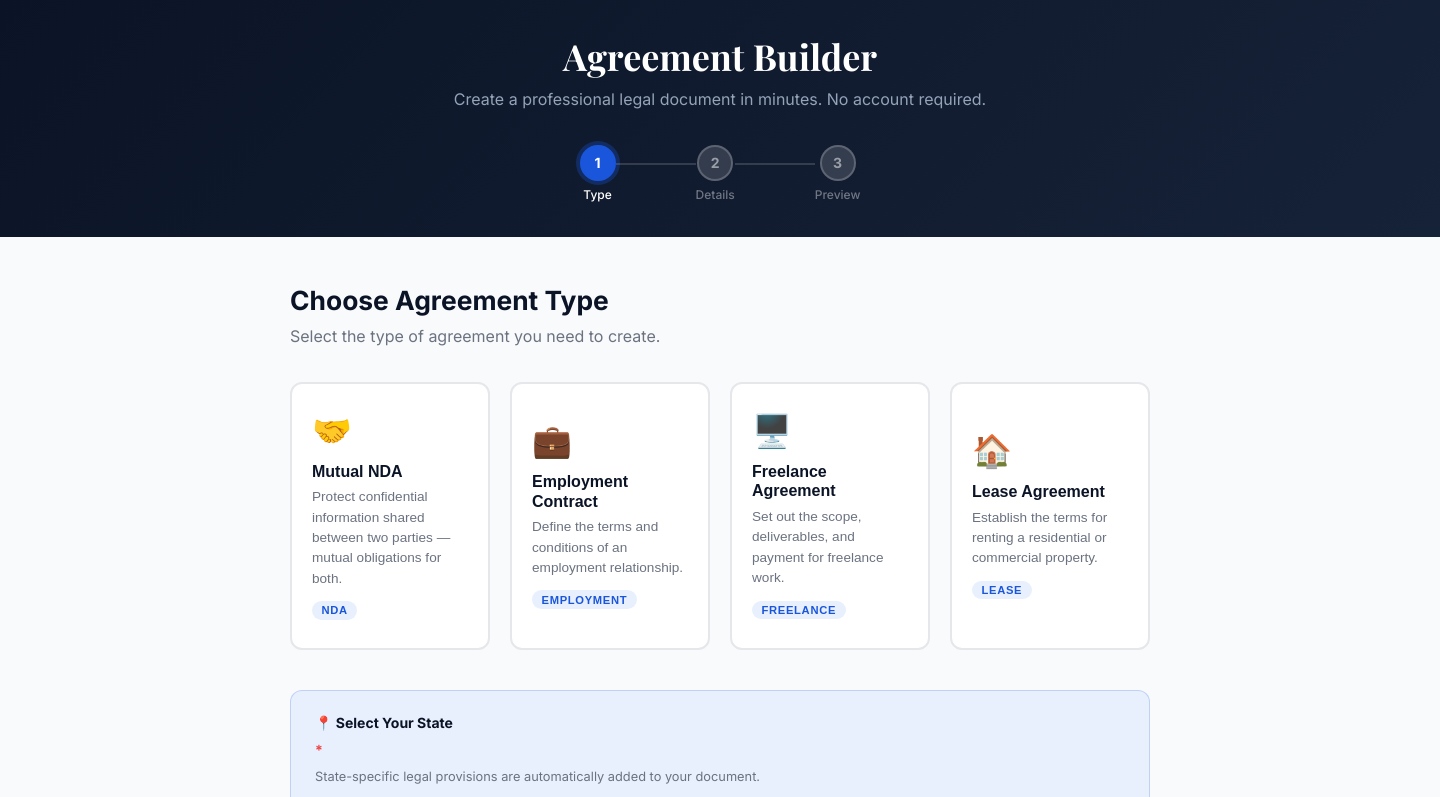
Test case: BuilderWizard — step navigation › goes back to Step 1 from Step 2 when Back is clicked
Click the heading "Mutual NDA" at (357, 471), box x1=312 y1=463 x2=403 y2=480
(page scrolled)
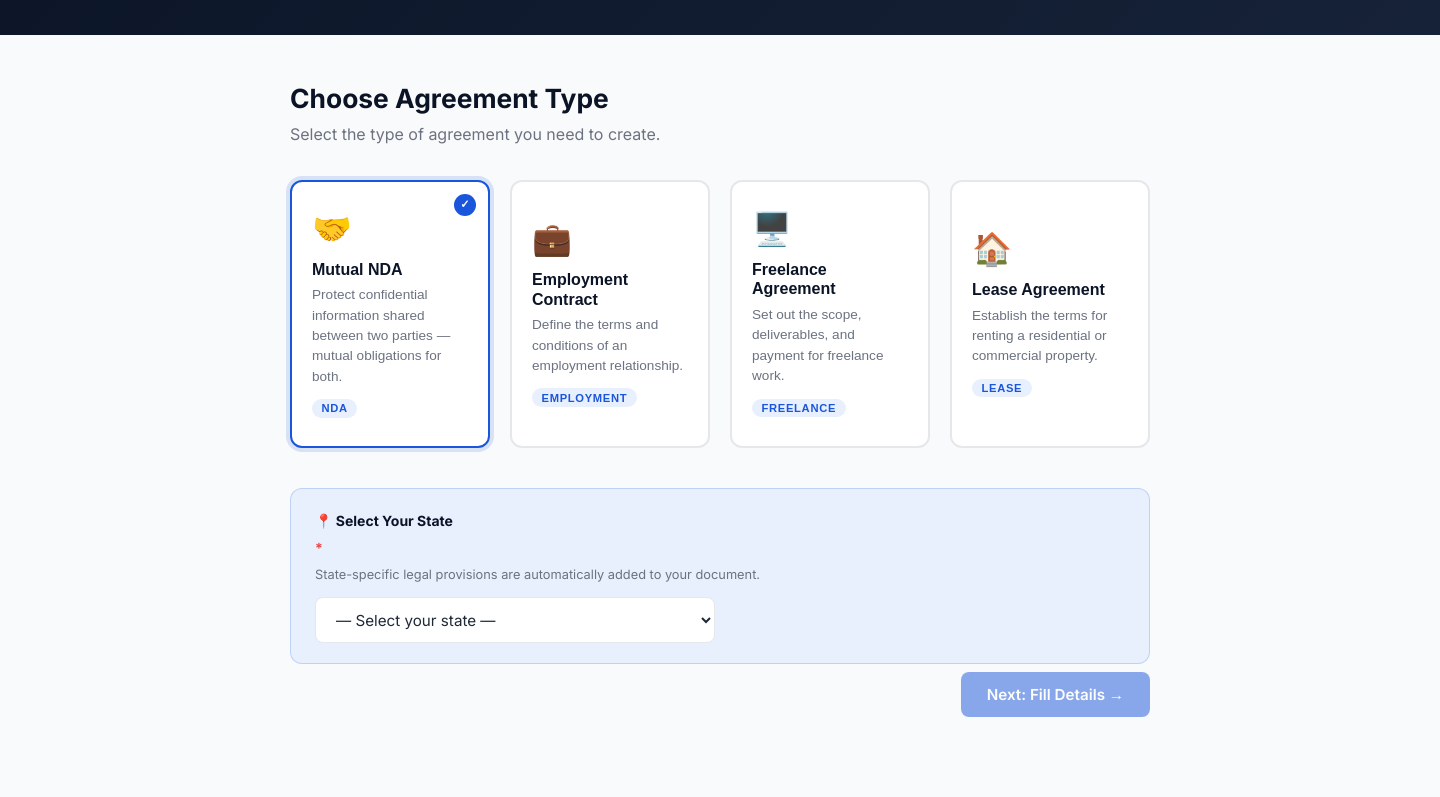
Select "California (CA)" in the dropdown at (515, 620), box x1=315 y1=597 x2=715 y2=643
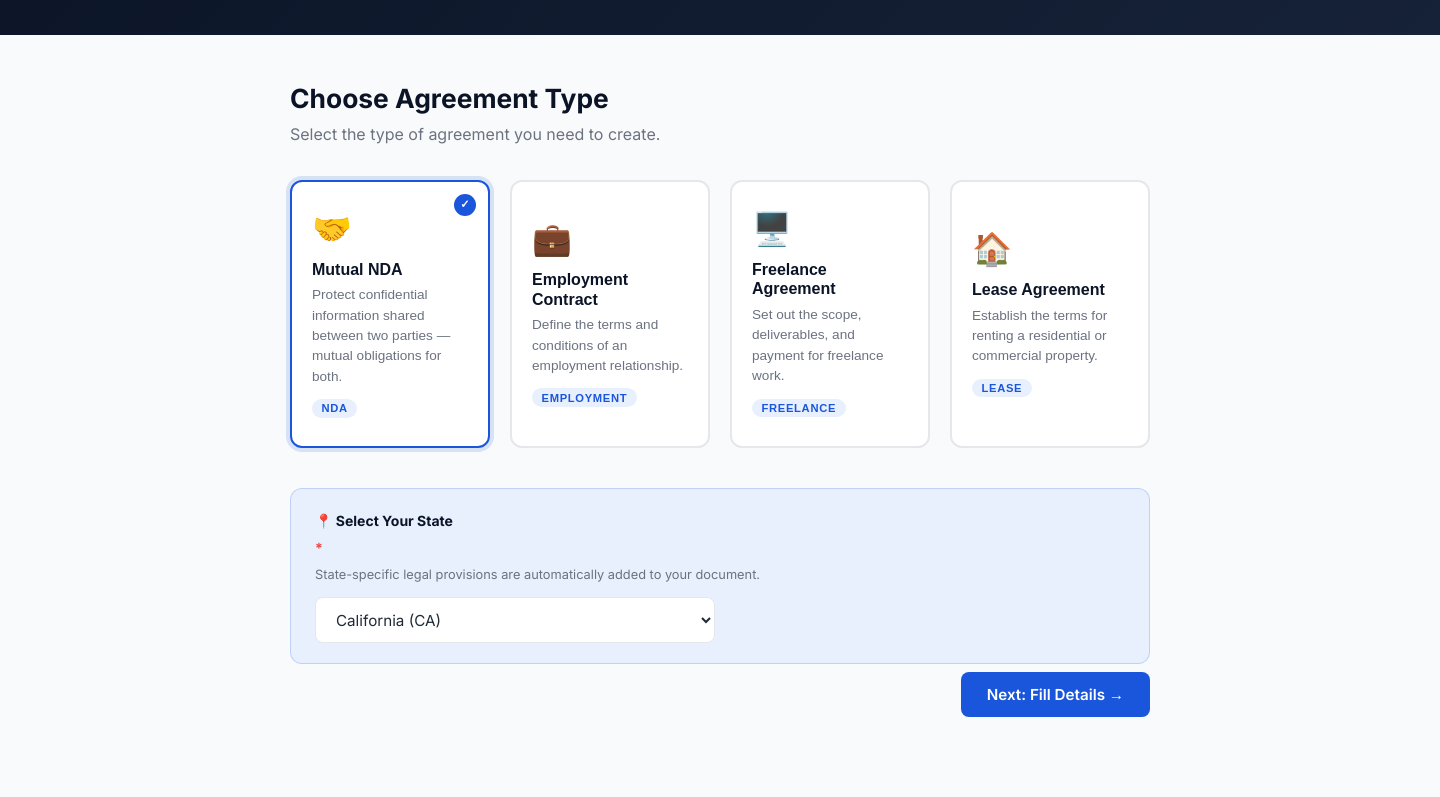
Click the button "Next: Fill Details →" at (1055, 694), box x1=961 y1=672 x2=1150 y2=717
(page scrolled)
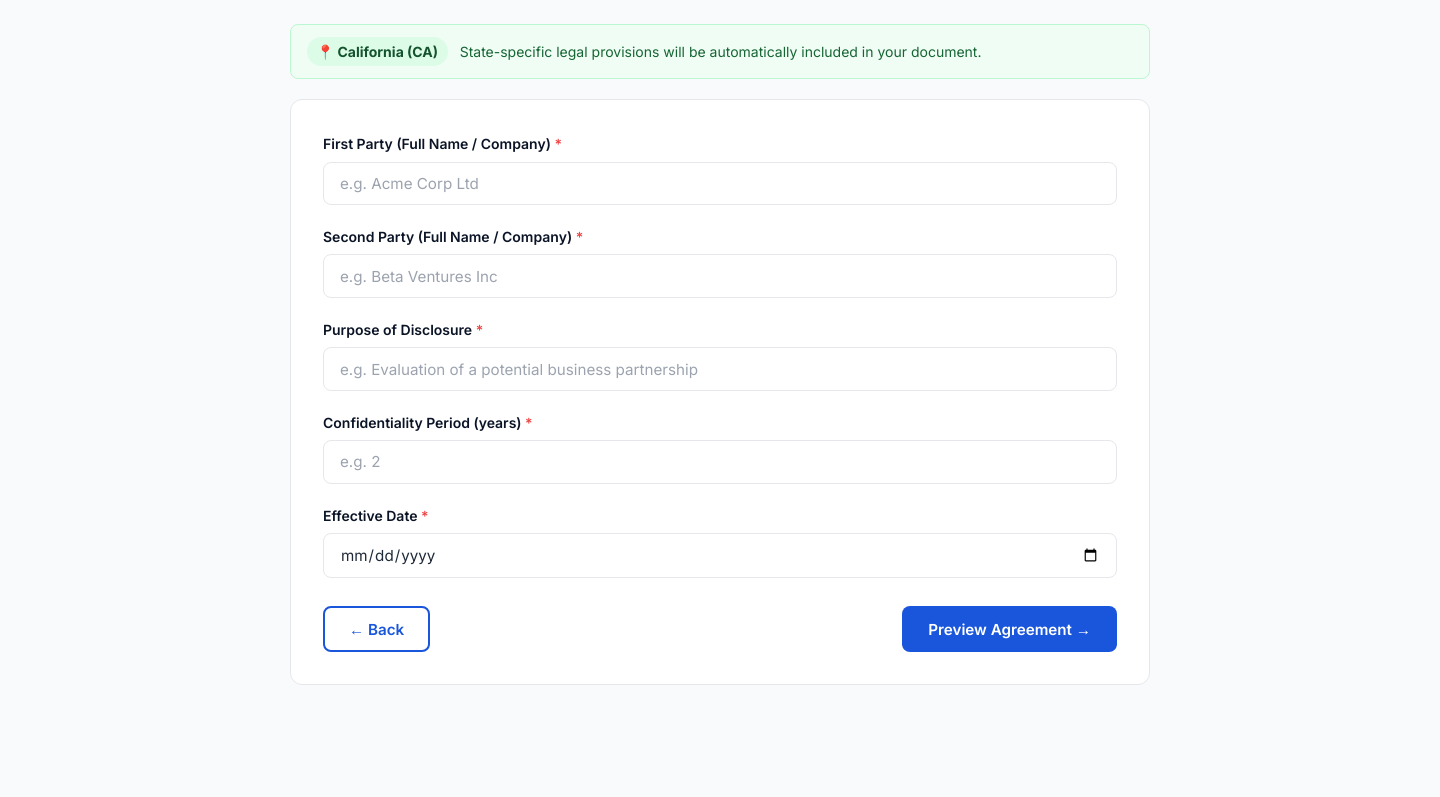
Result: the button "← Back" is shown
Click the button "← Back" at (377, 629), box x1=323 y1=606 x2=430 y2=652
(page scrolled)
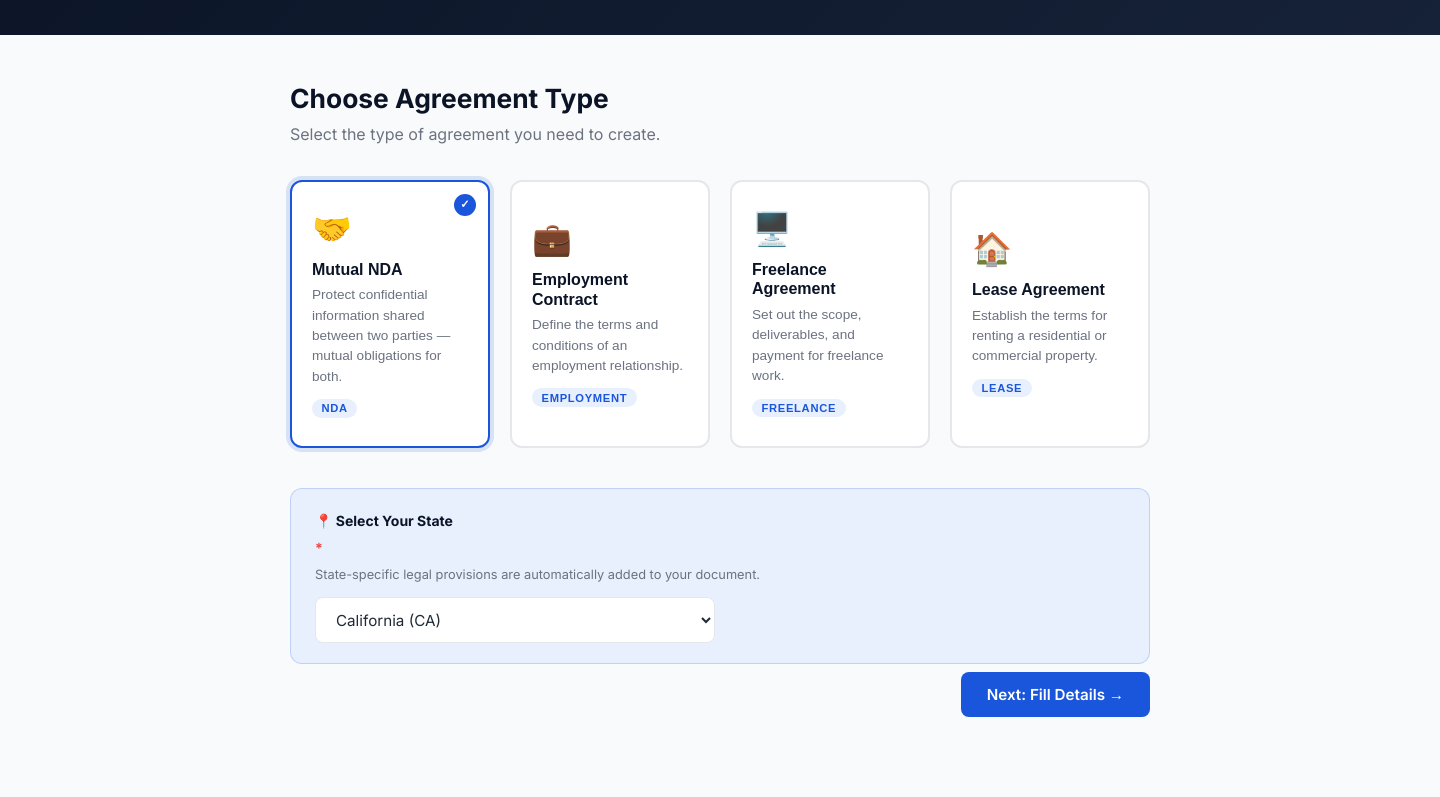
Result: the heading "Choose Agreement Type" is shown at x1=290 y1=82 x2=609 y2=114
